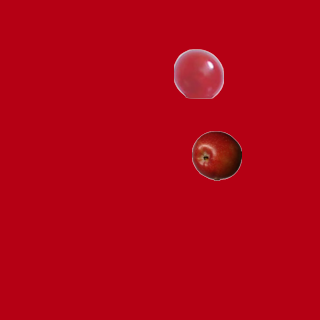Apple Braeburn: (191, 130, 241, 180)
Redcurrant: (173, 48, 223, 98)
